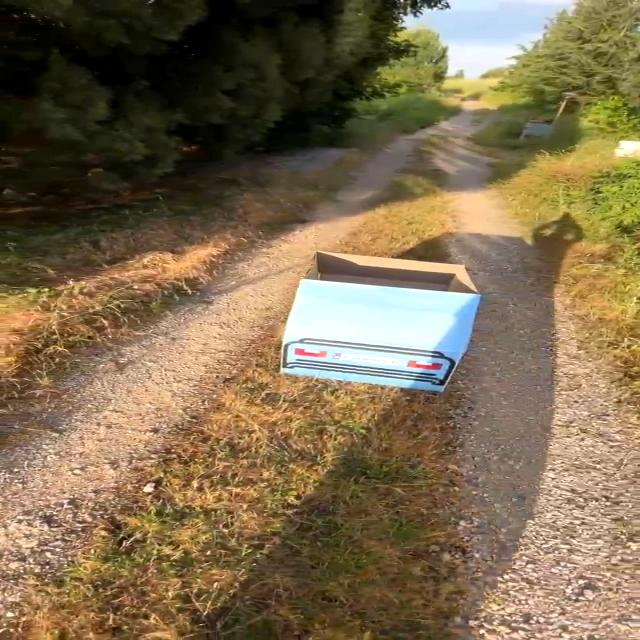blue_car: (253, 239, 519, 428)
